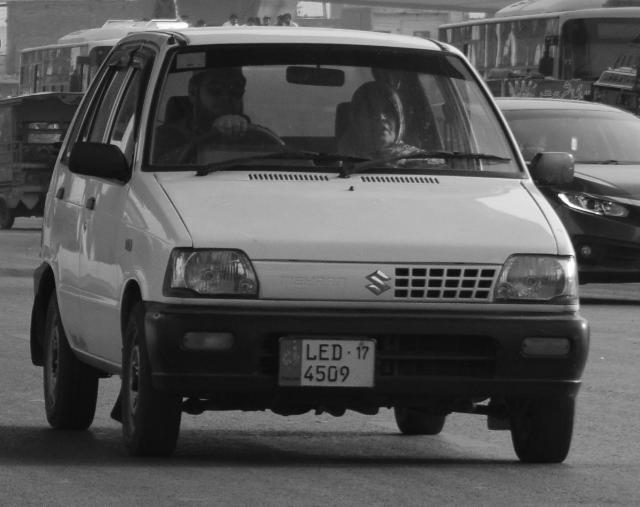Number: (302, 344, 356, 384)
